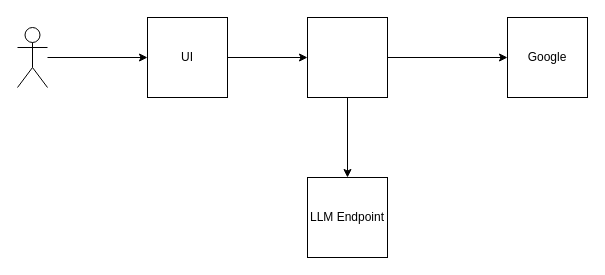
Some shapes in this 605 by 275 pixel diagram are drawn without their labels. The shapes that lost their labels are listed below. From the top down, each one's centre as x and y in pixels, then its label:
At (x=32, y=57): "Actor".
At (x=347, y=57): "Lambda".
